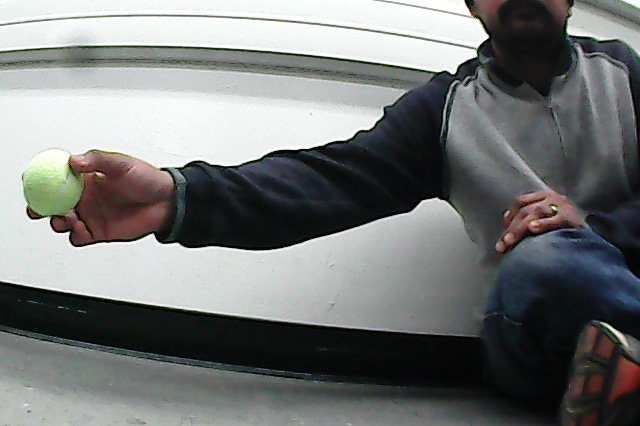ball: (18, 148, 88, 220)
